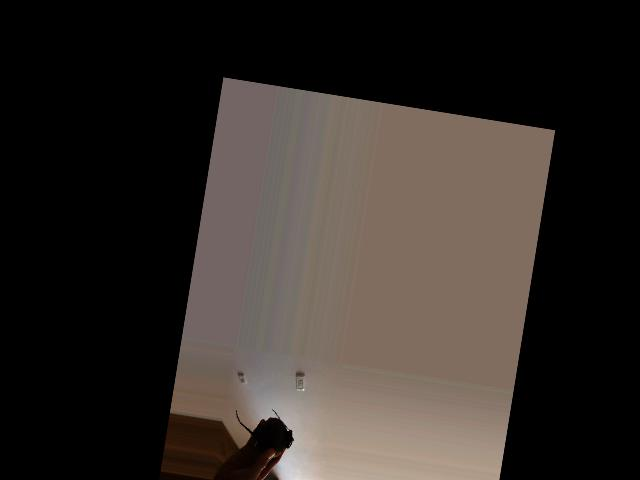beet: (229, 402, 298, 460)
